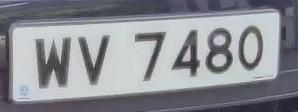0: (233, 18, 269, 75)
4: (165, 18, 205, 82)
7: (130, 26, 171, 88)
8: (201, 21, 236, 81)
V: (74, 30, 118, 91)
W: (33, 30, 75, 95)
